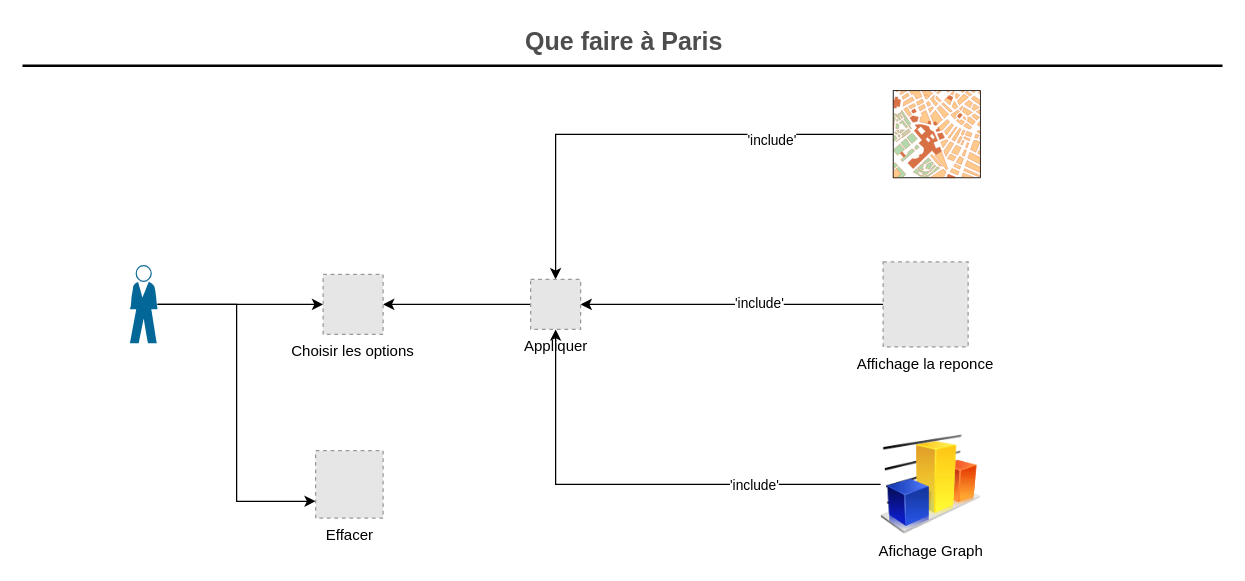
The diagram is 1245 pixels wide and 581 high, and some of its shapes have lost their labels. Grey dashed boxes stand in for pictures. The centre of each missing label's shape, as x and y in pixels:
"Affichage Map" goes at (x=936, y=133).
"Client" goes at (x=143, y=304).
